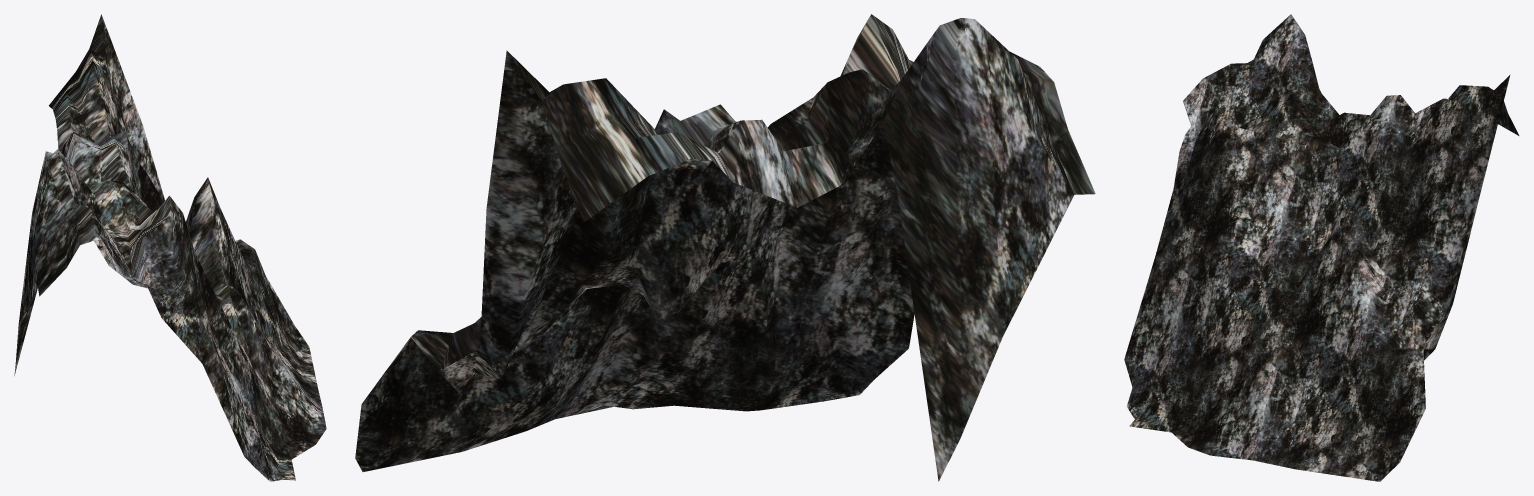
Rendered from OVERHILL_A_01_MOUN1_OBJECT151.fbx.
The picture shows the model from 3 angles, left to right: view 1: azimuth 30°, elevation 25°; view 2: azimuth 150°, elevation 25°; view 3: azimuth 270°, elevation 25°; orthographic projection. The views are drawn at different scales.
Parts seen in each view (by area): view 1: OVERHILL_A_01_MOUN1_OBJECT151; view 2: OVERHILL_A_01_MOUN1_OBJECT151; view 3: OVERHILL_A_01_MOUN1_OBJECT151.
Boxes of the visible parts, bbox=[...] form: OVERHILL_A_01_MOUN1_OBJECT151: bbox=[14, 14, 326, 481]; OVERHILL_A_01_MOUN1_OBJECT151: bbox=[355, 14, 1095, 481]; OVERHILL_A_01_MOUN1_OBJECT151: bbox=[1124, 14, 1519, 481].
Bounding box in the file's own units: 363165 × 337078 × 348747.
1 material, 1 textured.
